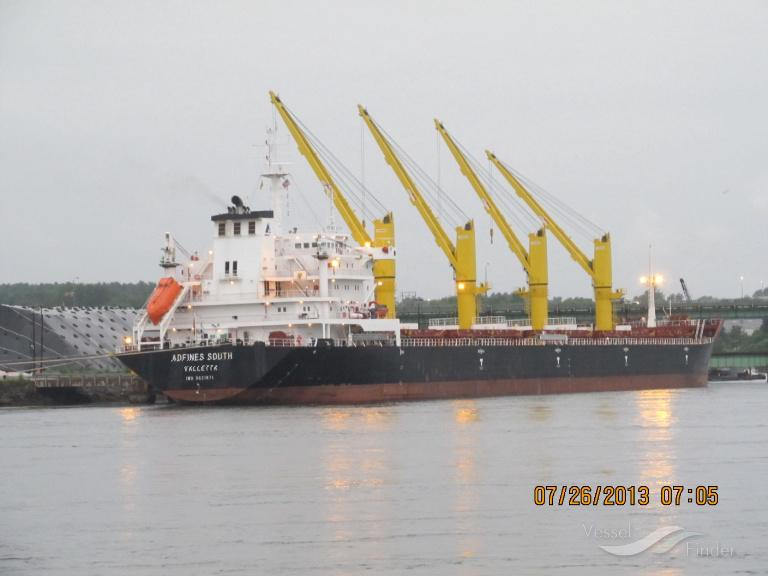OCR: (166, 348, 240, 394)
